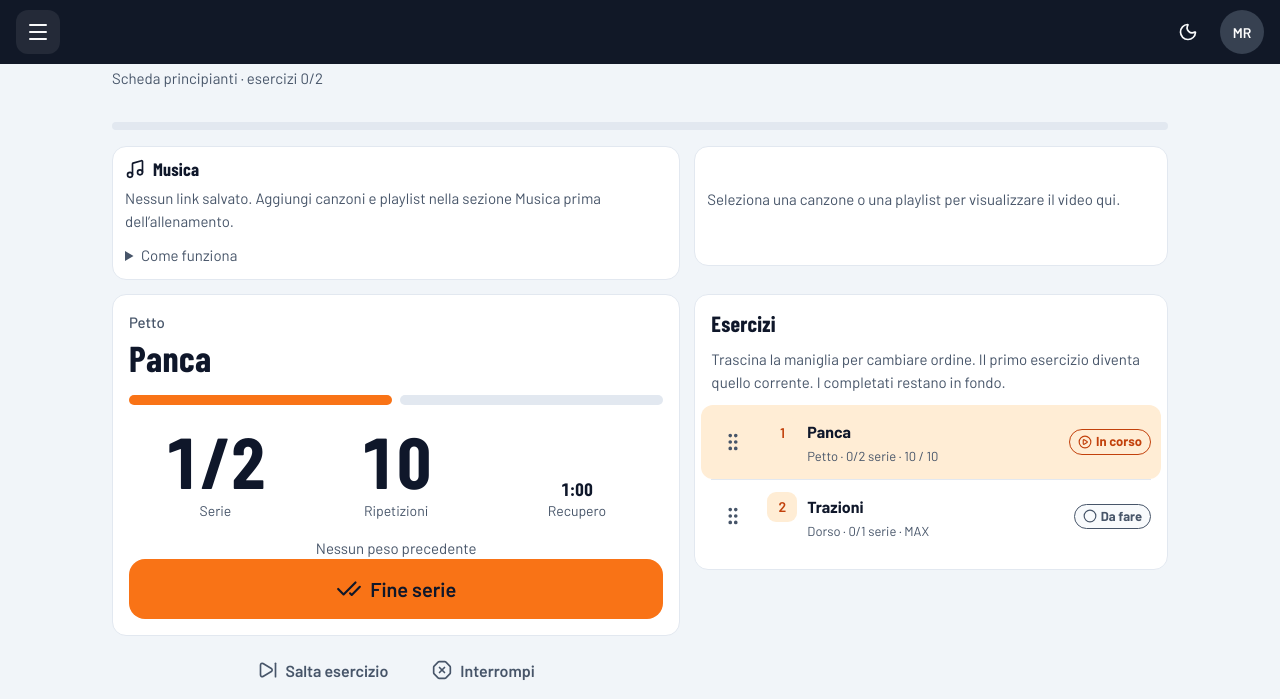
it: workout screen › asks confirmation before skipping and shows the skipped state
(page scrolled)
Click the button "Salta esercizio" at point(323, 670), box top-left (240, 648), bottom-right (406, 692)
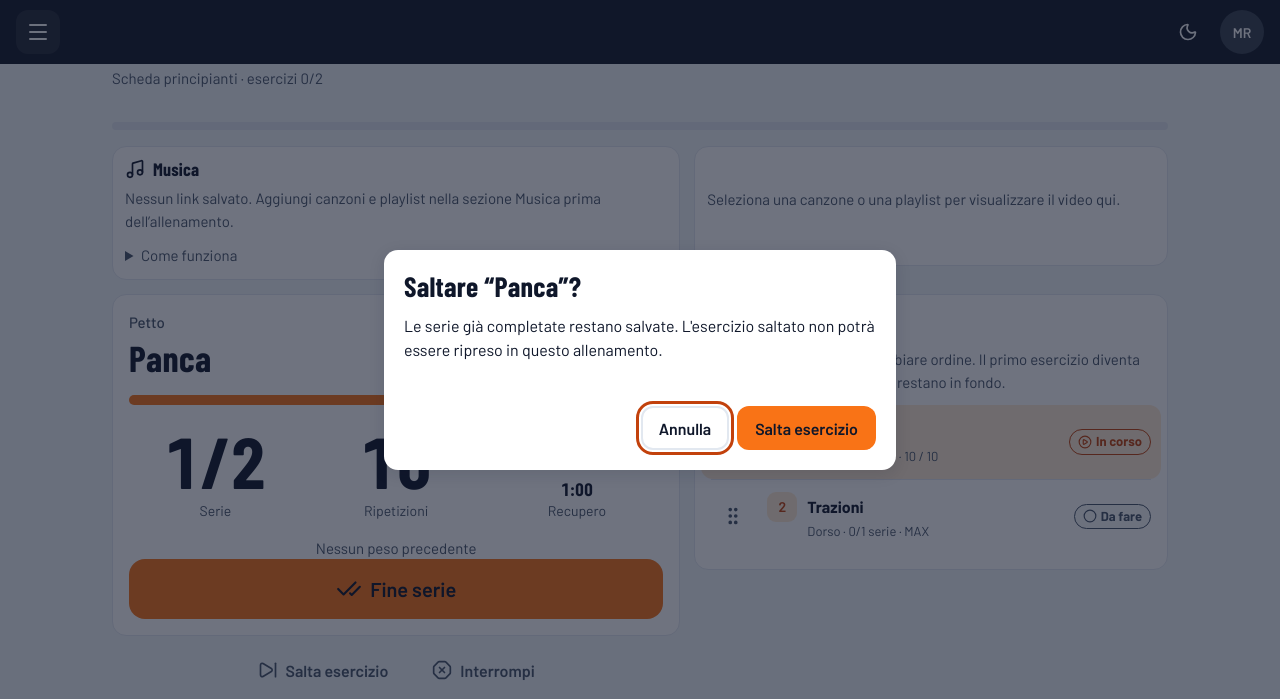
Click the button "Salta esercizio" at point(807, 428), box top-left (737, 406), bottom-right (876, 450)
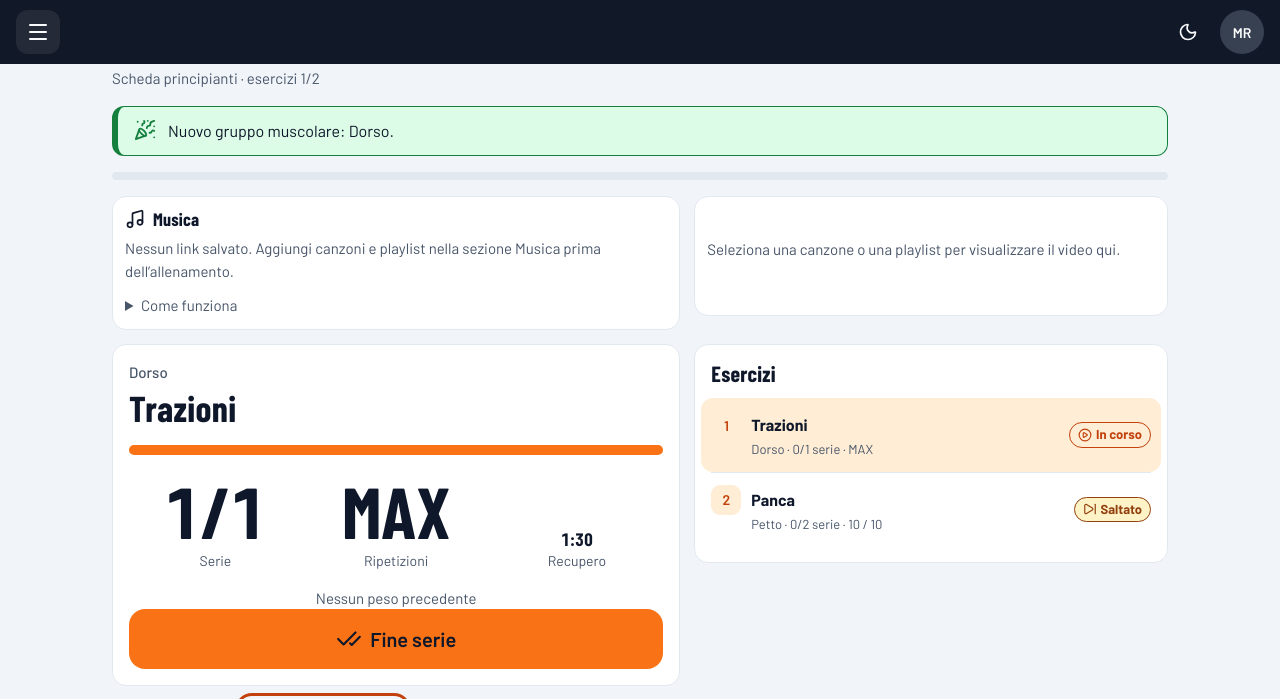
expect the text "Saltato" is shown: met, box top-left (1074, 497), bottom-right (1151, 522)
expect the element "Trazioni" is shown: met, box top-left (112, 344), bottom-right (680, 686)
